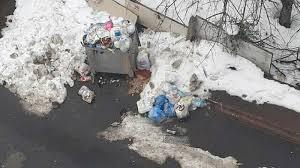Container: (85, 45, 136, 80), (130, 34, 142, 77)
Garbage: (136, 83, 206, 123), (87, 17, 130, 45), (102, 25, 127, 44), (136, 92, 154, 115), (170, 96, 189, 117), (95, 23, 112, 43), (76, 58, 90, 81), (139, 50, 155, 69), (77, 83, 96, 99), (82, 90, 100, 105), (153, 91, 167, 109), (102, 21, 114, 28)
